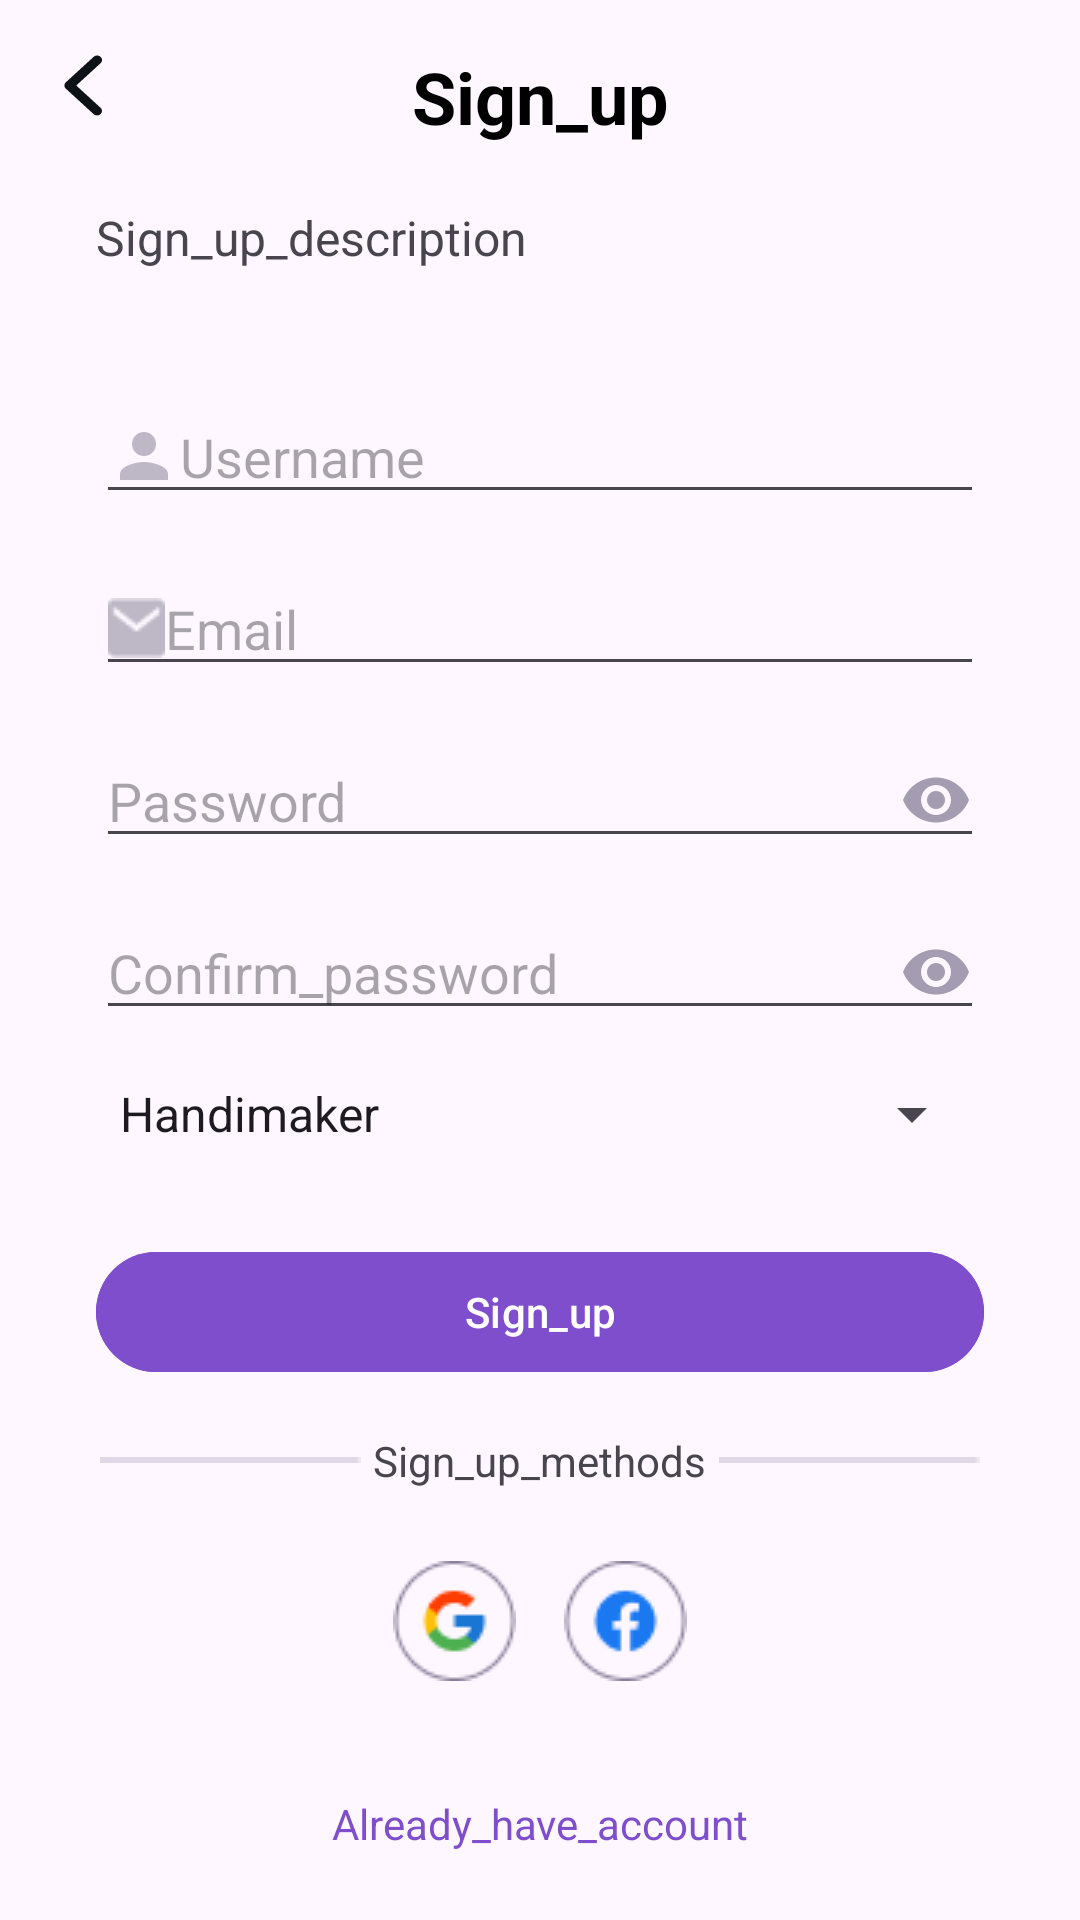

Icons on this 1080*1920 Android screen, each with its box as (left=x1, top=y1, right=x2, bottom=y2):
back: (left=64, top=55, right=102, bottom=116)
